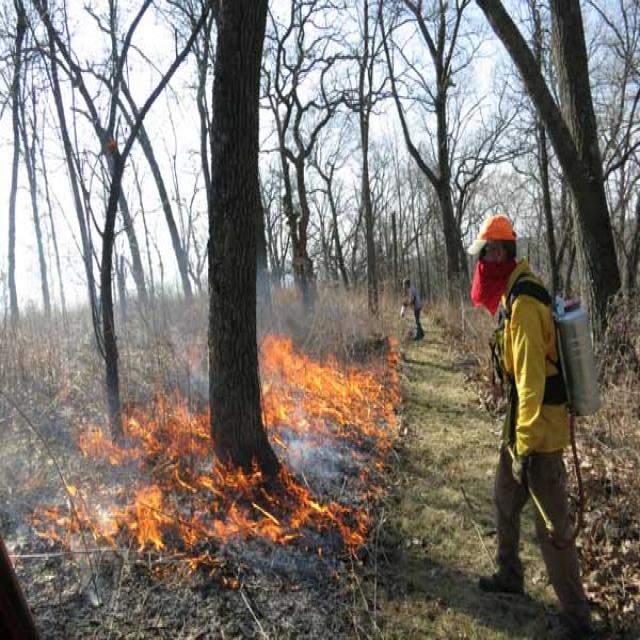Fire: (70, 334, 398, 558)
